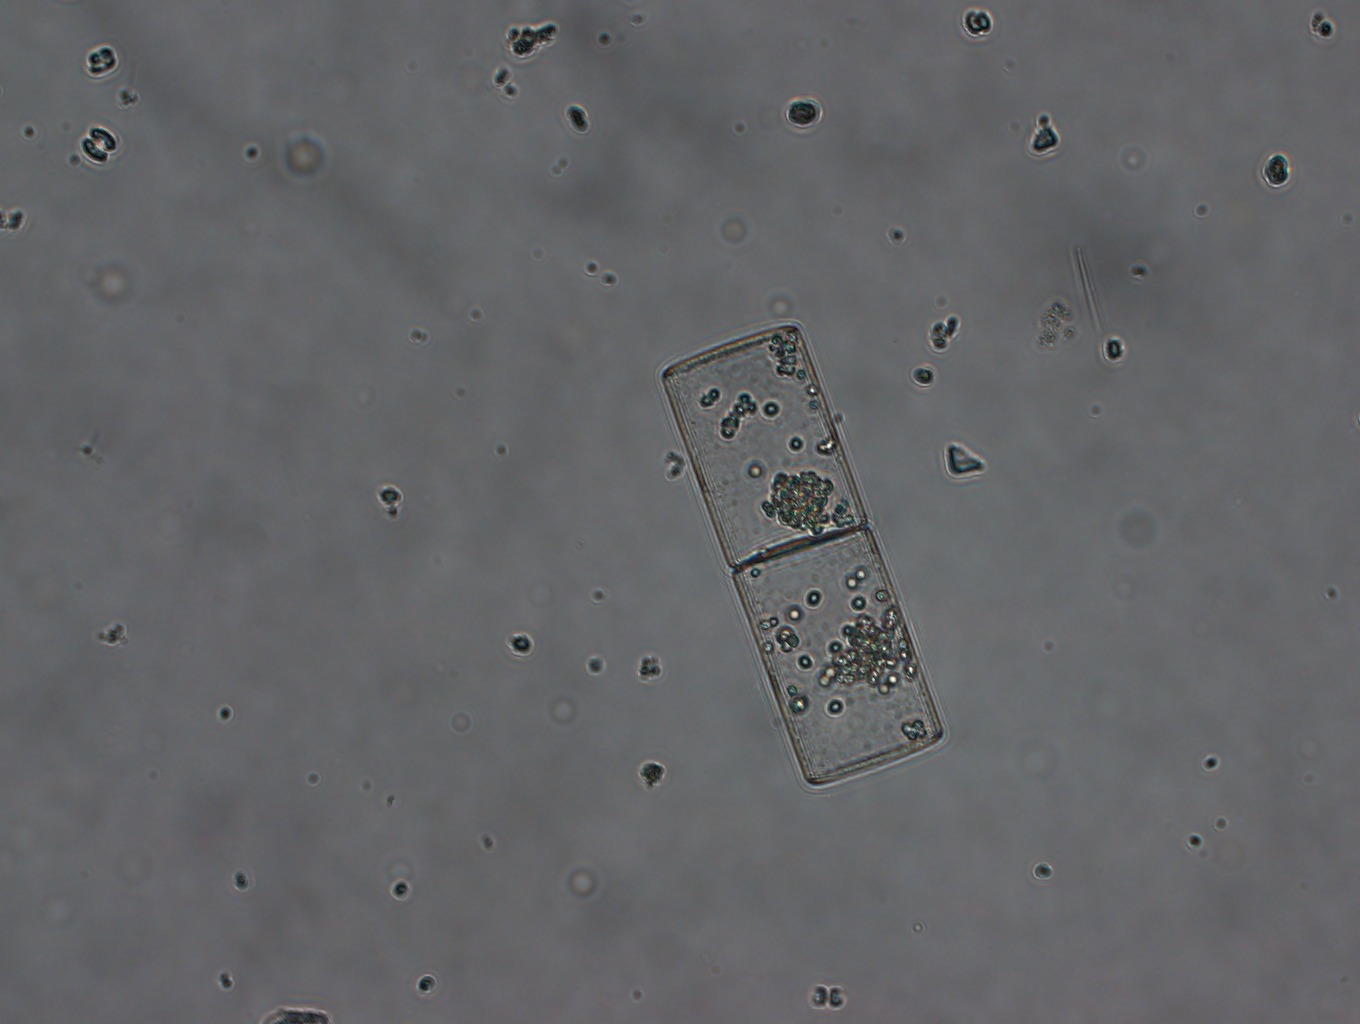guinardia flaccida: (648, 309, 953, 798)
